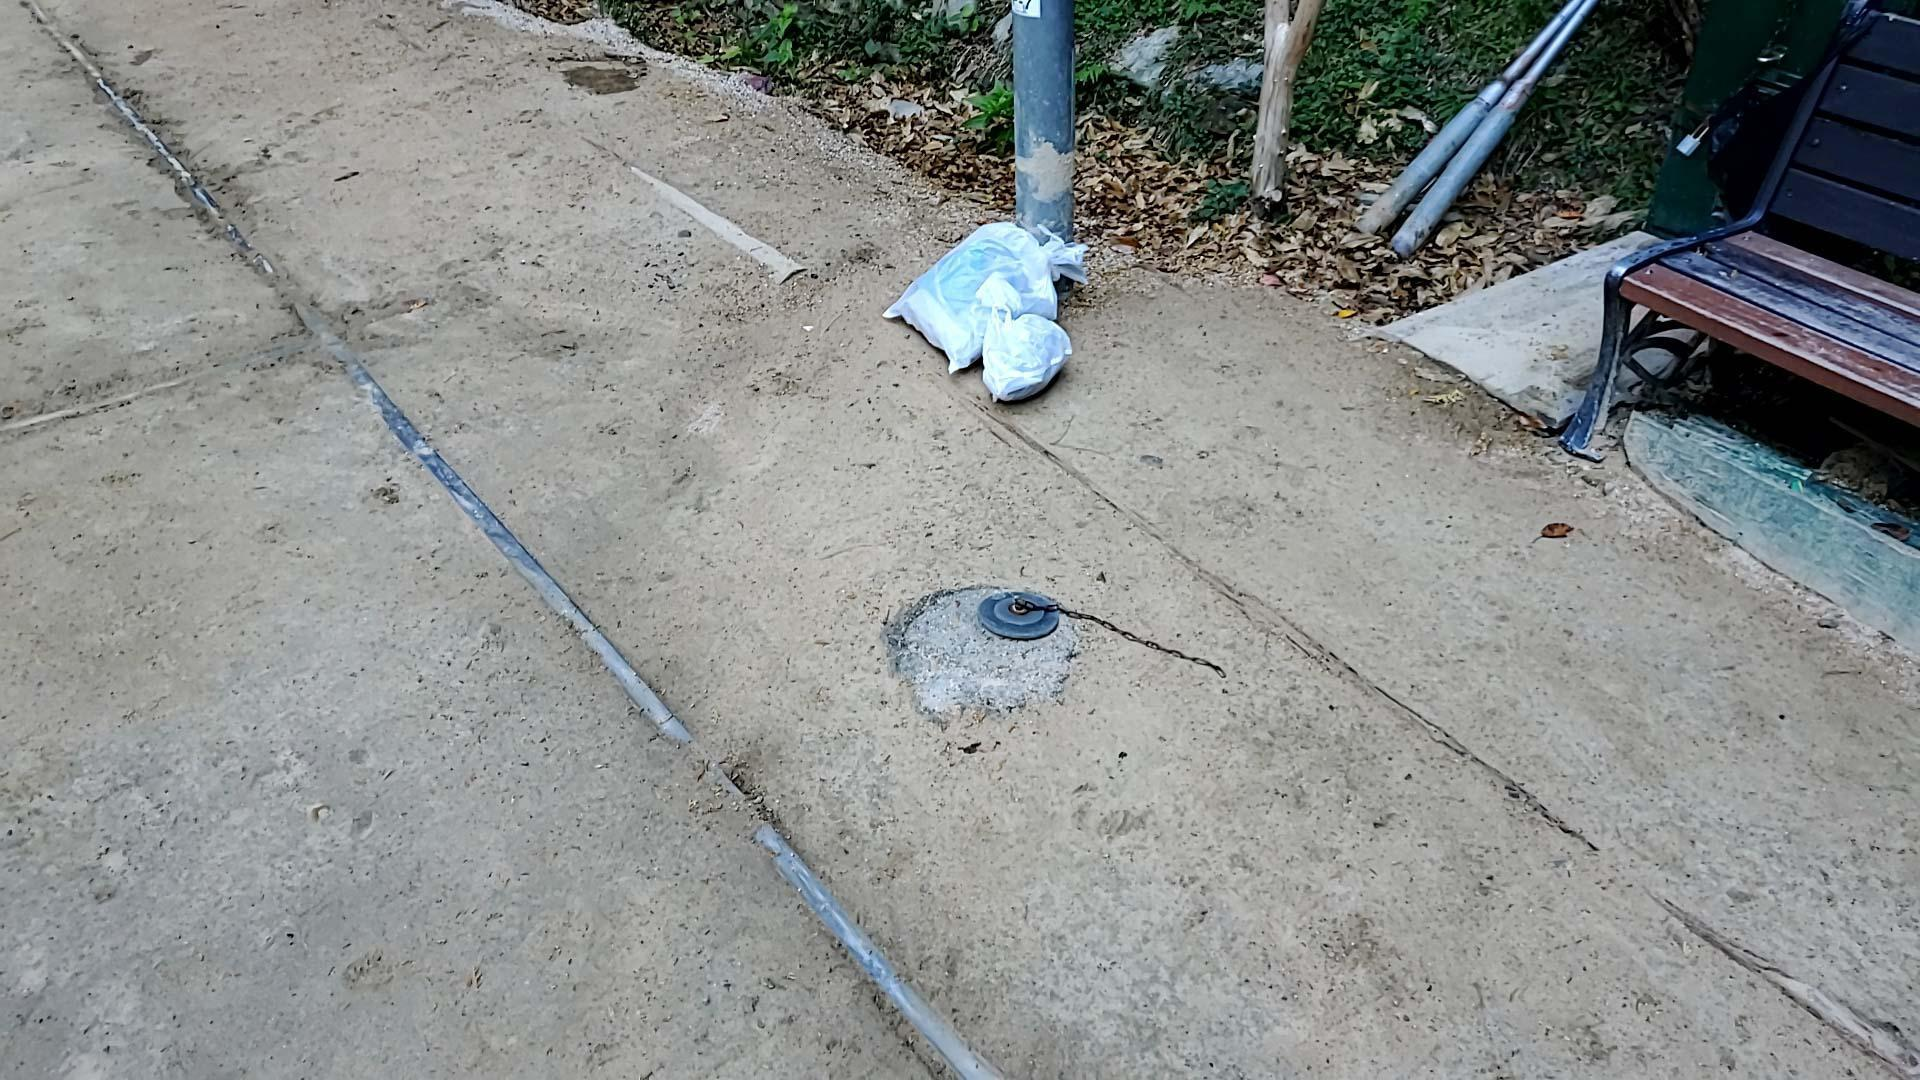white_bag: (876, 208, 1095, 373), (969, 280, 1081, 407)
